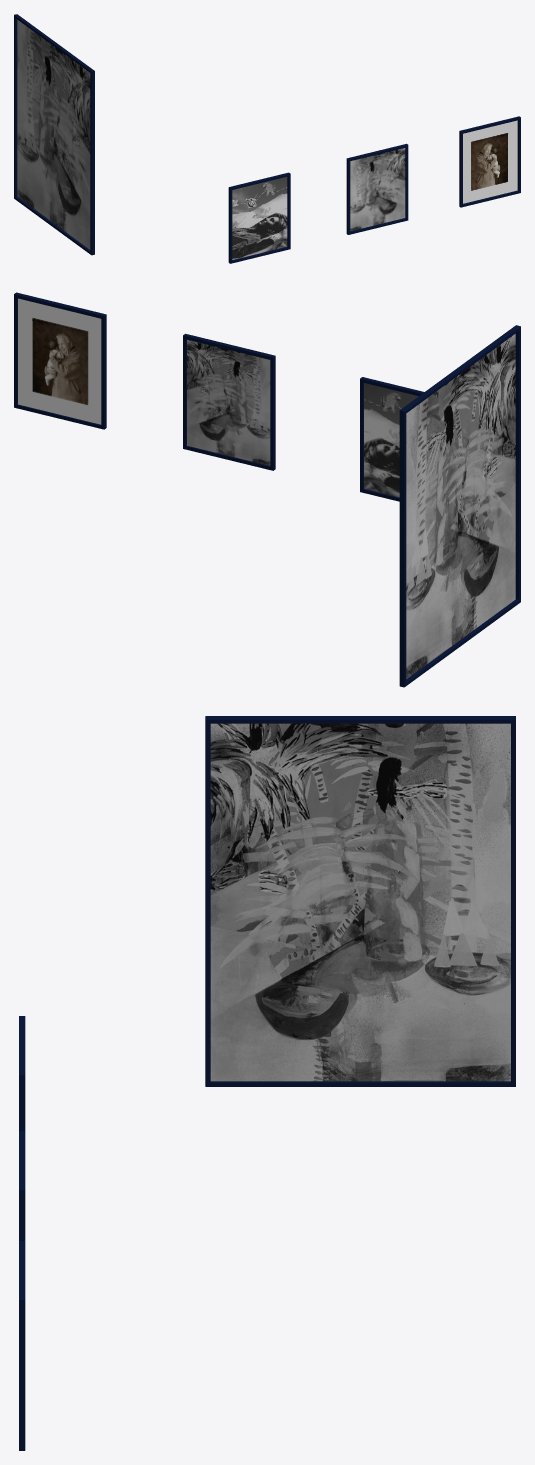
Rendered from Decoration-3-living.FBX.
The picture shows the model from 3 angles, top to bottom: view 1: azimuth 30°, elevation 25°; view 2: azimuth 150°, elevation 25°; view 3: azimuth 270°, elevation 25°; orthographic projection. The views are drawn at different scales.
Parts seen in each view (by area): view 1: putong025, putong026; view 2: putong025, putong026; view 3: putong025, putong026.
Boxes of the visible parts, x1,y1,x2,y2 form: putong025: (17,20,517,259); putong026: (14,14,520,263); putong025: (18,298,515,679); putong026: (14,292,520,687); putong025: (210,723,510,1081); putong026: (19,716,515,1450).
Bounding box in the file's own units: 234 × 107 × 131.
